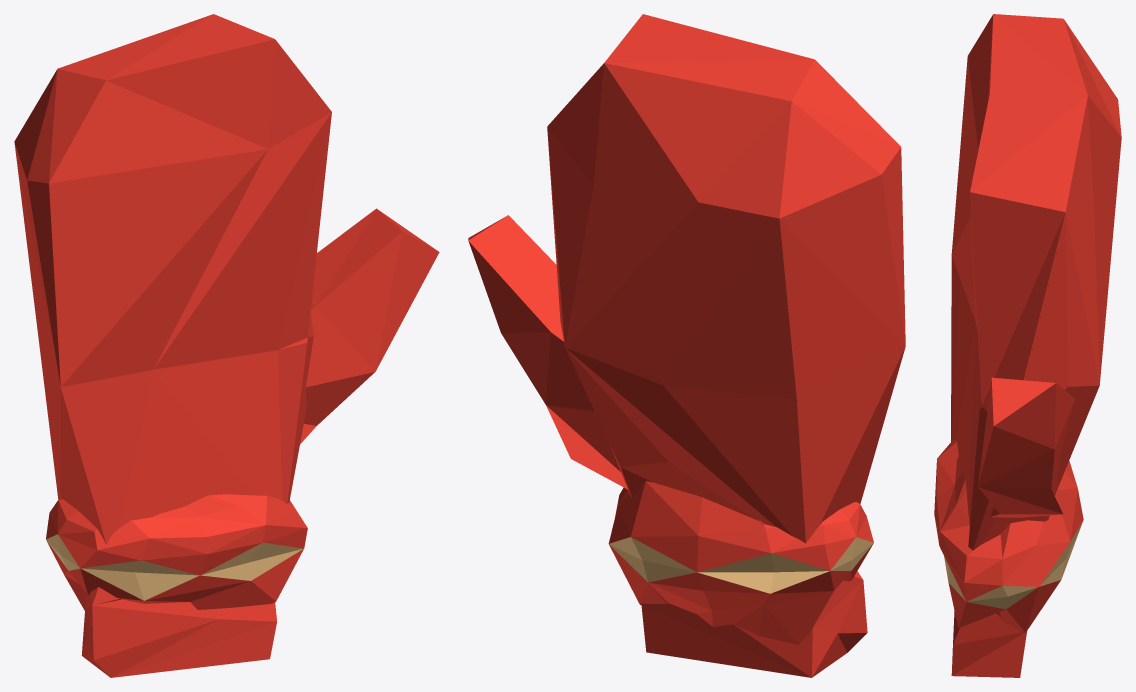
The model's file is Mitten.glb.
3 renders of one model, left to right at view 1: azimuth 30°, elevation 25°; view 2: azimuth 150°, elevation 25°; view 3: azimuth 270°, elevation 25°, orthographic. The views are drawn at different scales.
Visible parts, largest first — view 1: group463431455, group415508228, group399501026, group263566138; view 2: group463431455, group415508228, group399501026, group263566138; view 3: group463431455, group415508228, group399501026, group263566138.
Boxes of the visible parts, x1,y1,x2,y2 form: group463431455: (14, 14, 331, 544); group415508228: (46, 494, 307, 610); group399501026: (300, 208, 439, 444); group263566138: (81, 587, 276, 677); group463431455: (547, 14, 905, 543); group415508228: (608, 481, 873, 644); group399501026: (468, 215, 628, 489); group263566138: (641, 571, 867, 677); group463431455: (951, 14, 1121, 550); group415508228: (934, 439, 1083, 633); group399501026: (978, 377, 1074, 517); group263566138: (951, 610, 1026, 677).
Size of the model in its own units: 0.2845 by 0.4025 by 0.115.
